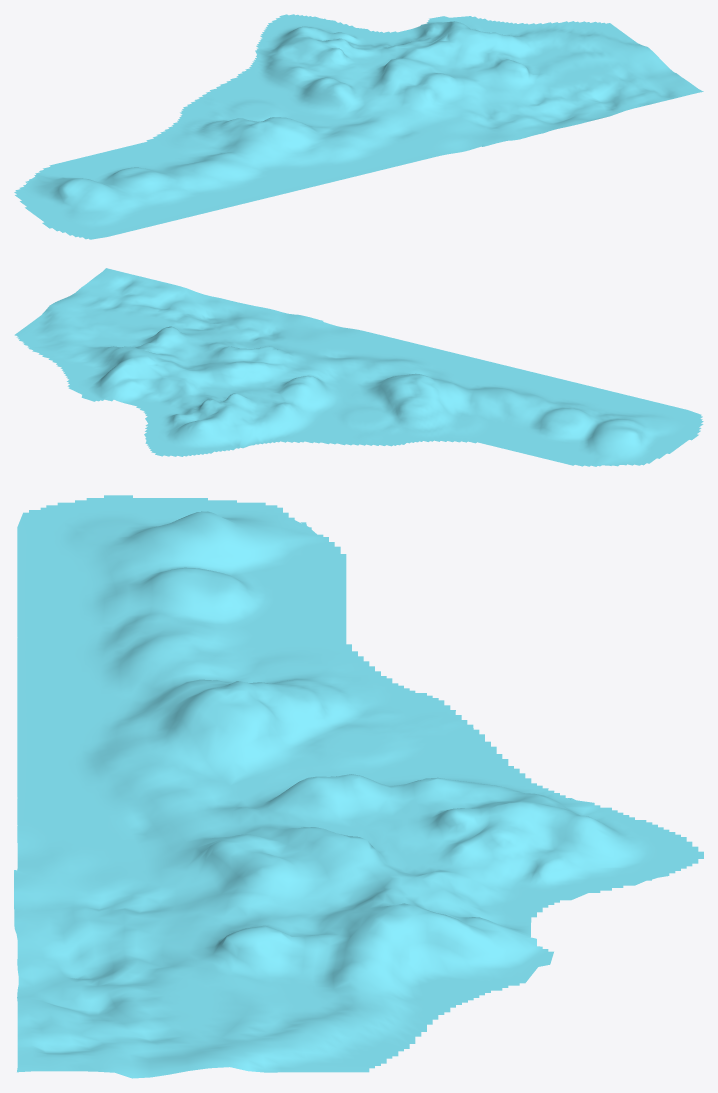
File: Land_1.fbx
3 renders of one model, top to bottom at view 1: azimuth 30°, elevation 25°; view 2: azimuth 150°, elevation 25°; view 3: azimuth 270°, elevation 25°, orthographic. The views are drawn at different scales.
Visible parts, largest first — view 1: Extract10; view 2: Extract10; view 3: Extract10.
Boxes of the visible parts, box(x1,y1,x2,y2) form: Extract10: box(14, 14, 703, 239); Extract10: box(14, 268, 703, 466); Extract10: box(14, 495, 703, 1078).
Size of the model in its own units: 237172 by 10497 by 119803.
